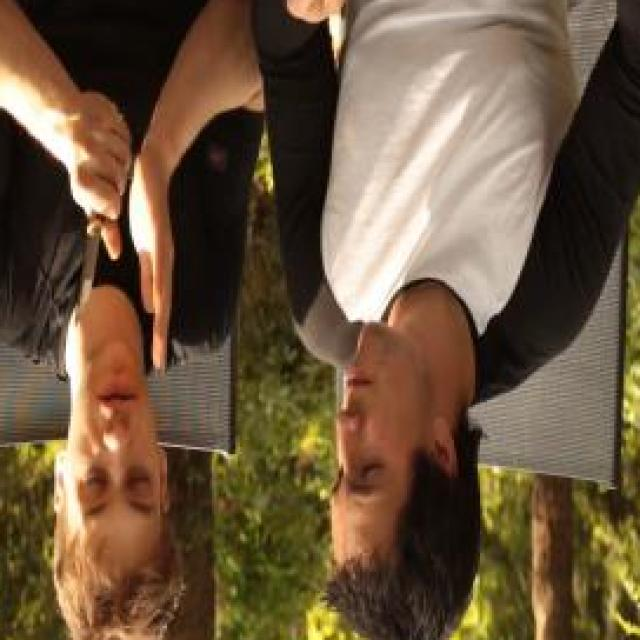knife: (61, 146, 128, 343)
